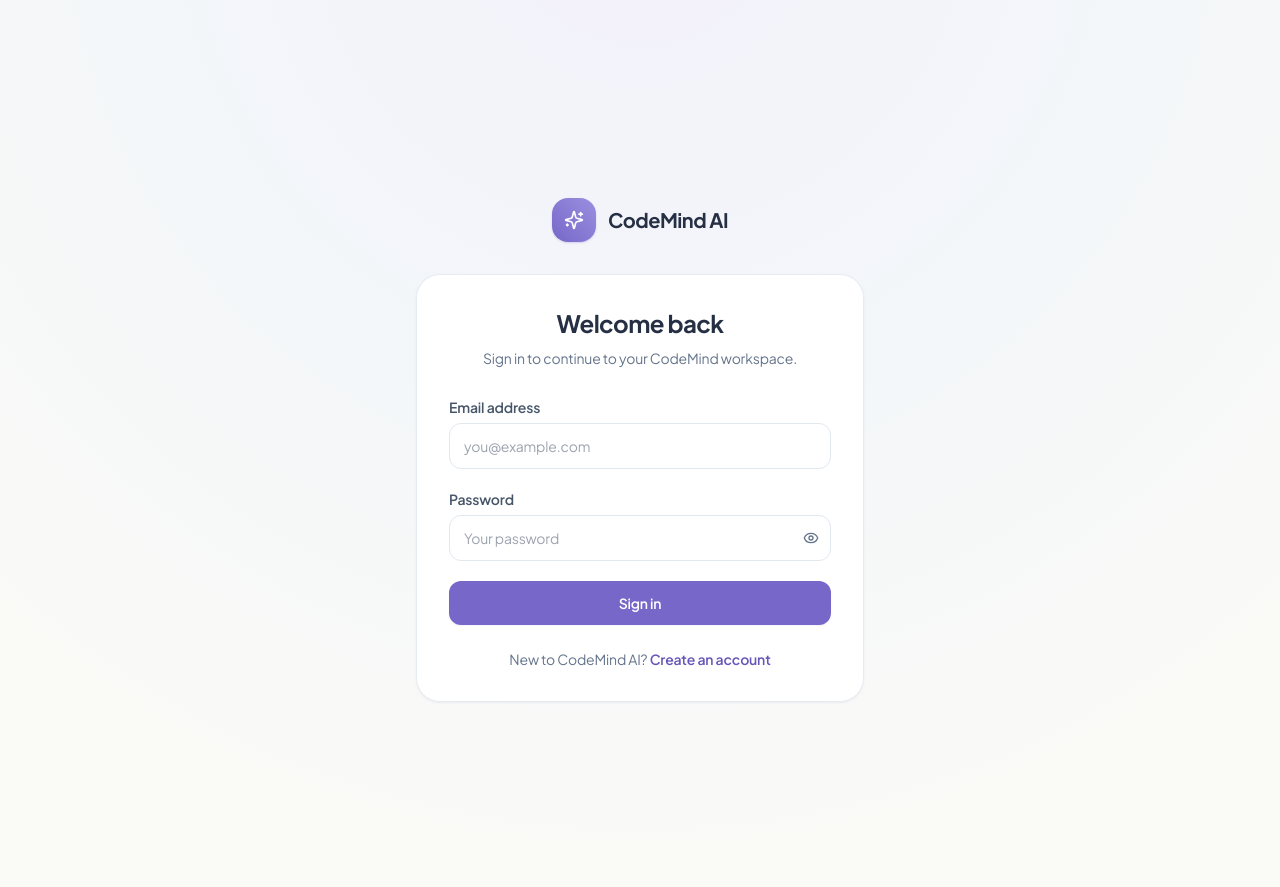
Test: App › logs in and navigates to the protected dashboard
Type "DEV@EXAMPLE.TEST" into the field labelled "Email address" at (640, 446), box top-left (449, 423), bottom-right (831, 469)
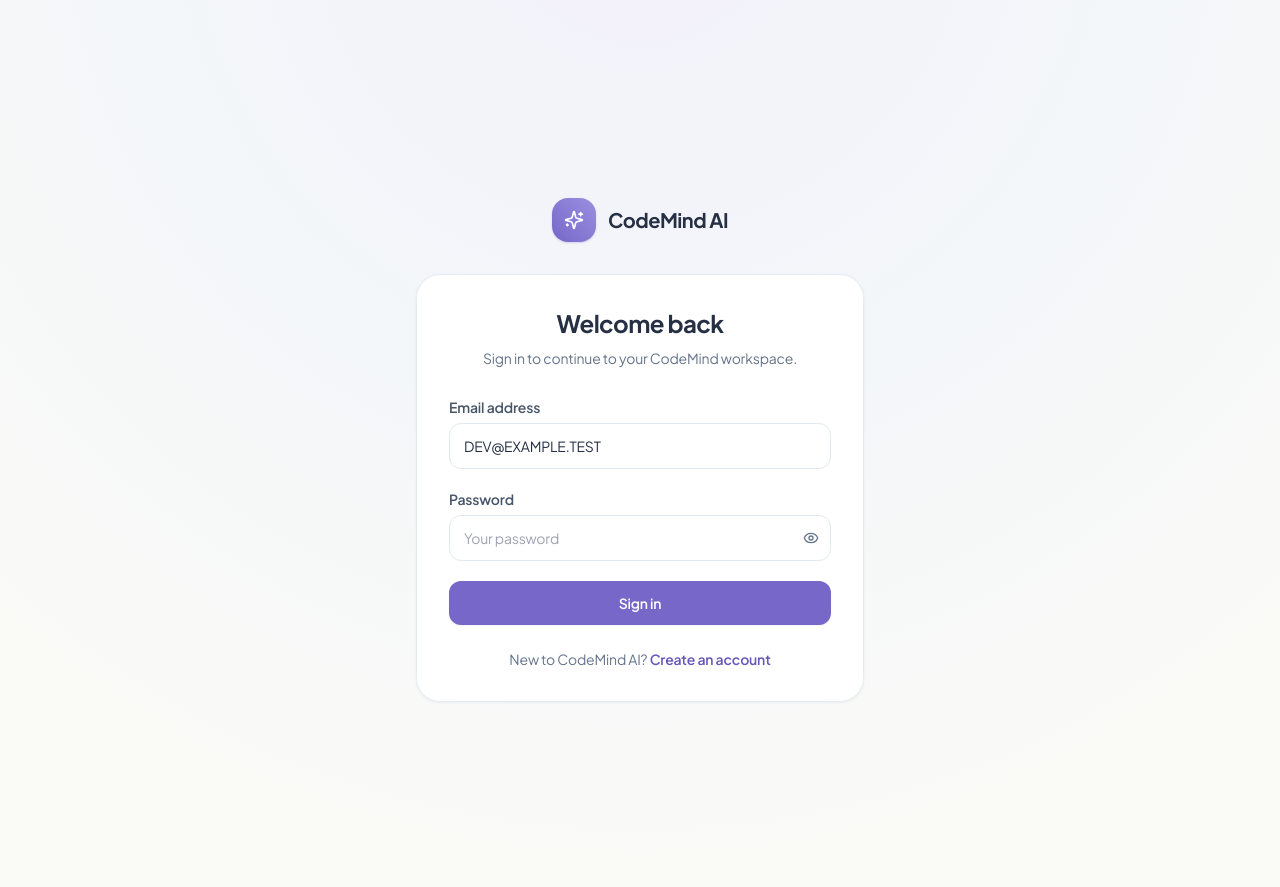
Type "StrongPassword123!" into the password field labelled "Password" at (640, 538), box top-left (449, 515), bottom-right (831, 561)
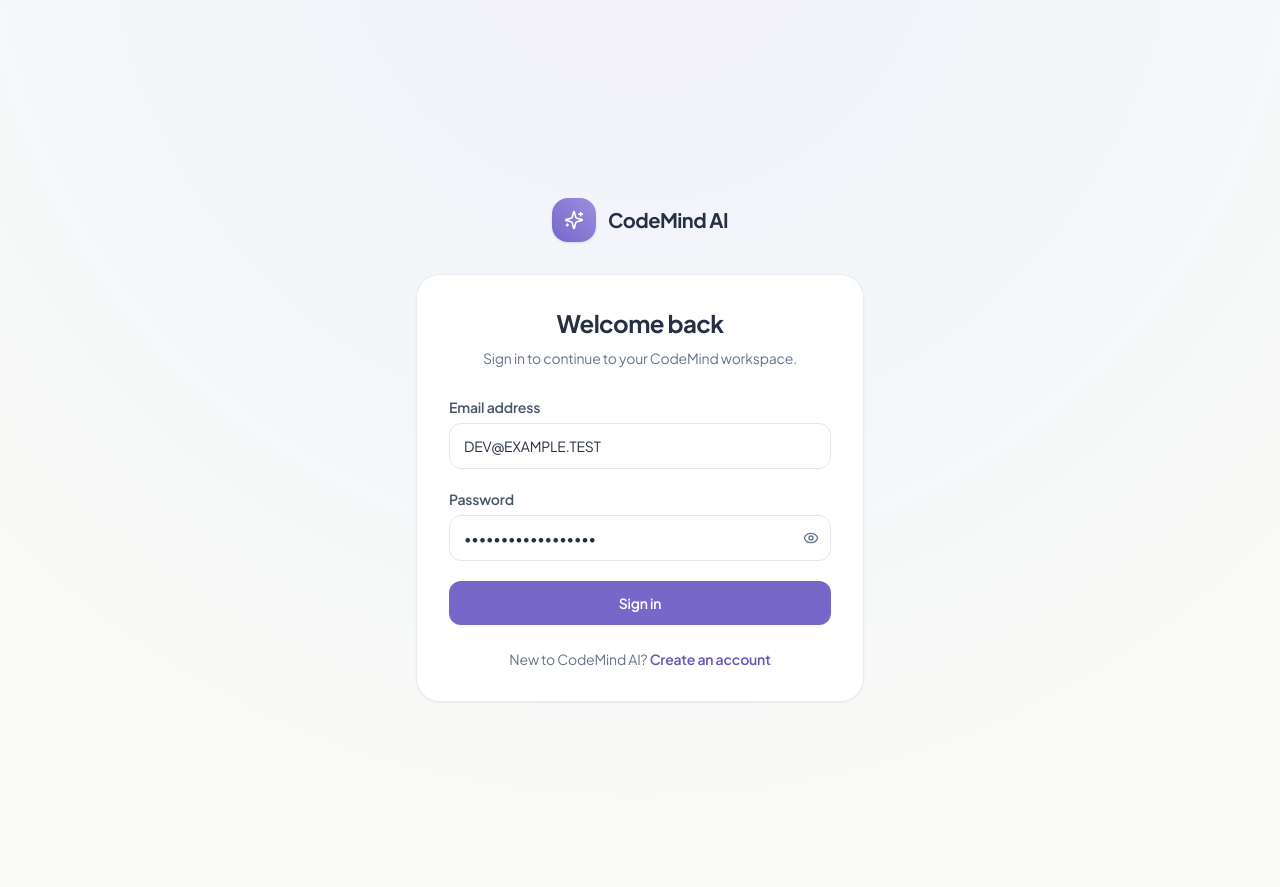
Click the button "Sign in" at (640, 603), box top-left (449, 581), bottom-right (831, 625)
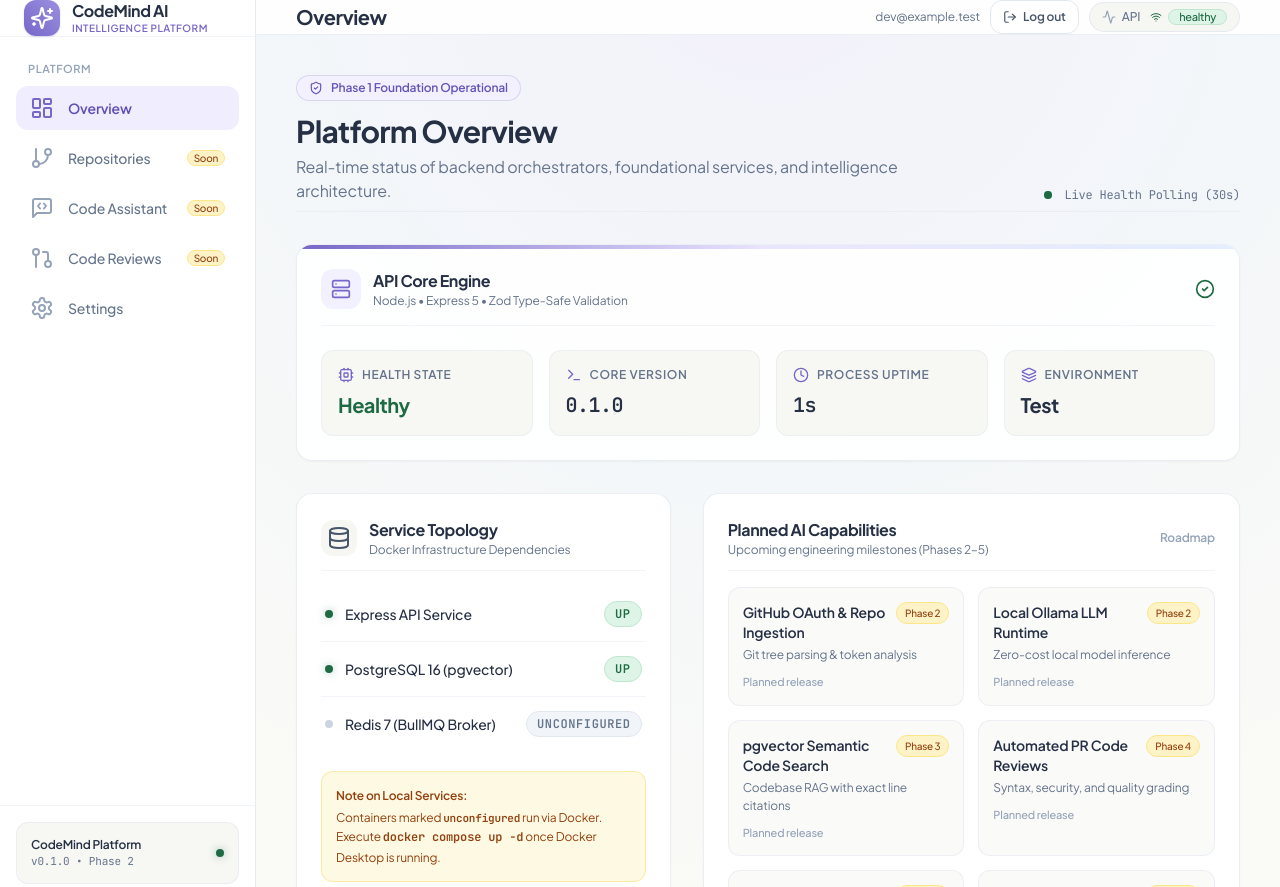
expect the navigation bar named "sidebar navigation" is shown: met, box top-left (16, 62), bottom-right (239, 320)
expect the text "dev@example.test" is shown: met, box top-left (875, 9), bottom-right (980, 25)
